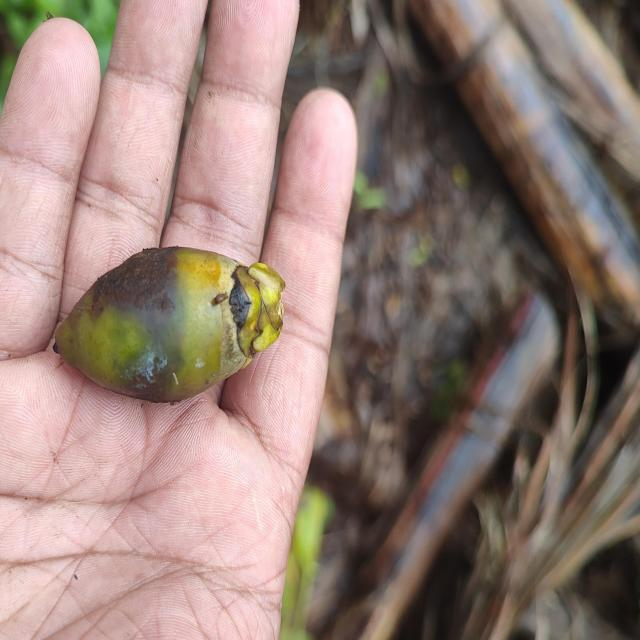damaged: (54, 247, 285, 405)
